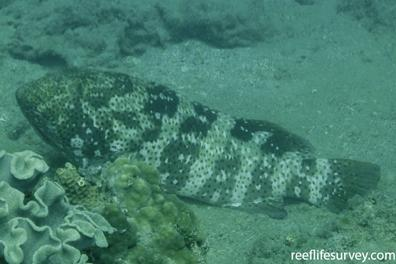Serranidae -Groupers-: (14, 57, 383, 221)
